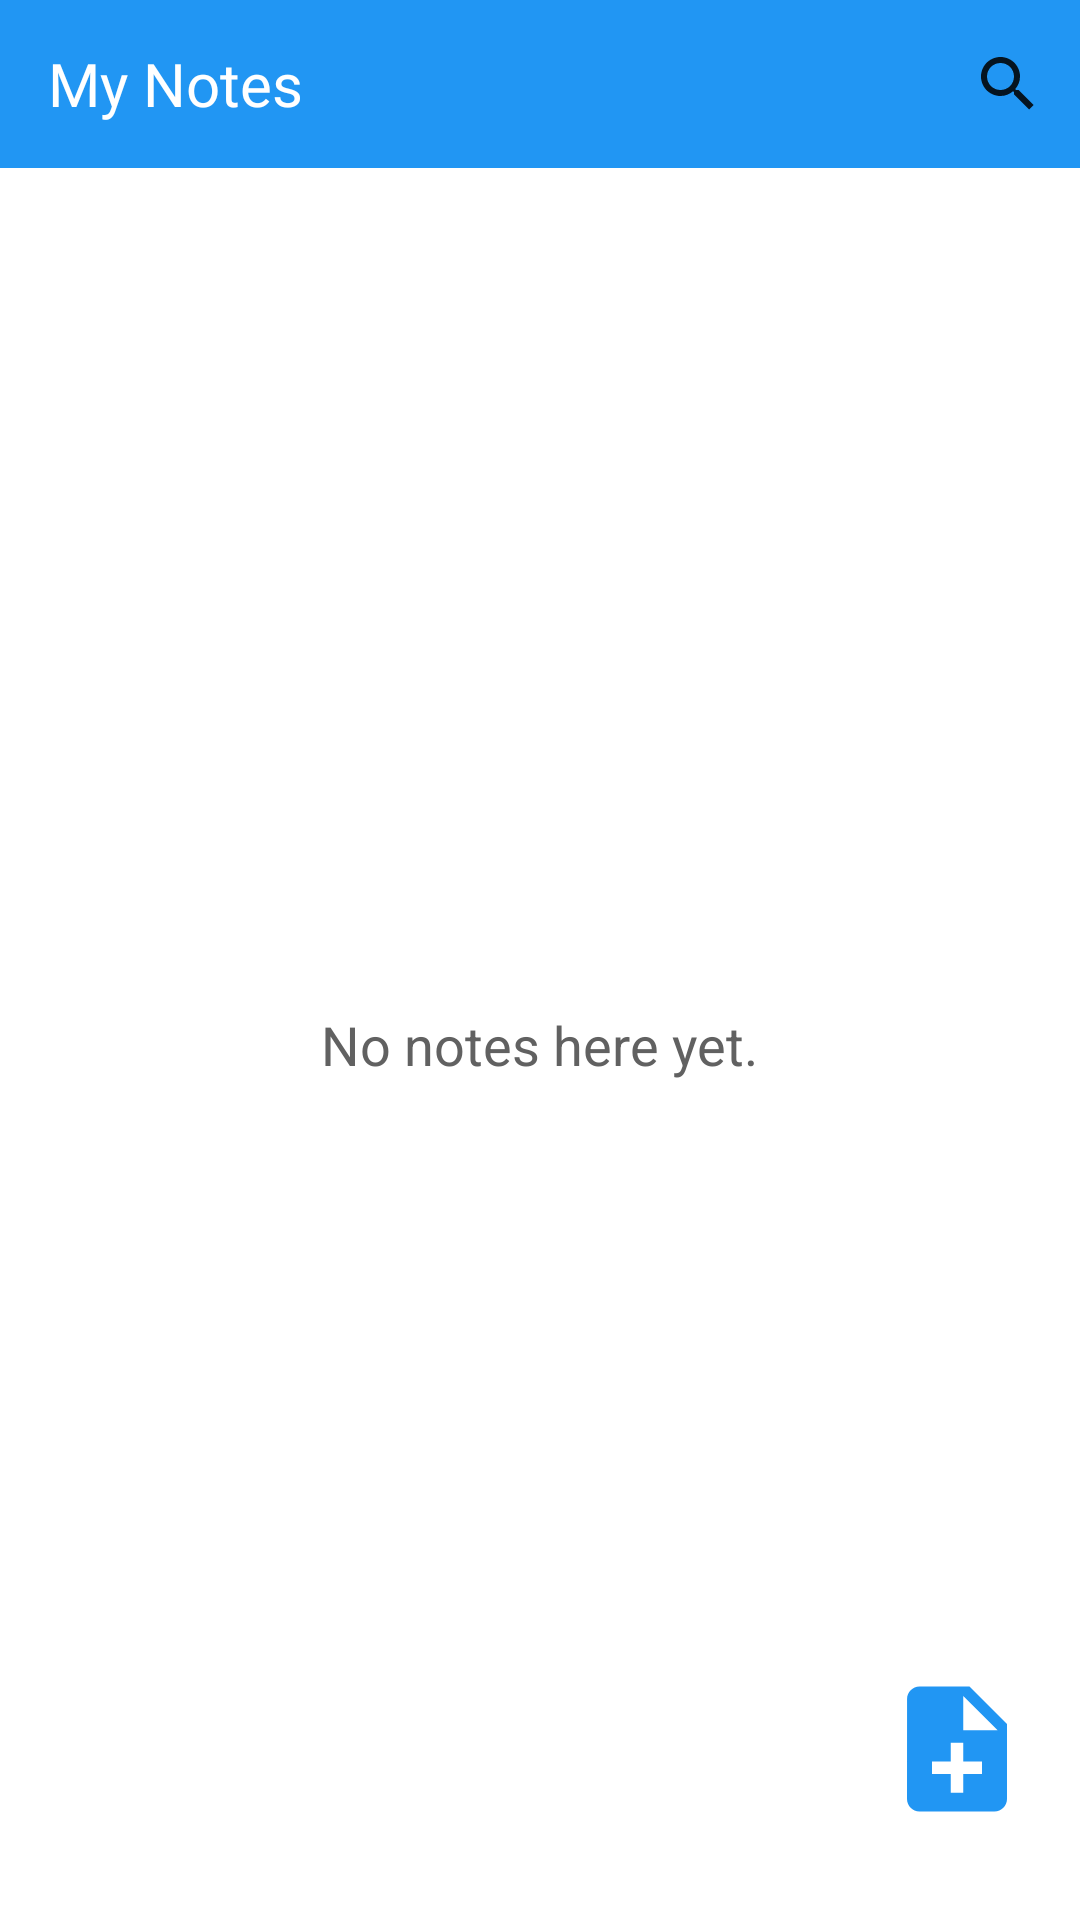

Icon bounding boxes for this 1080×1920 phone screenshot, format (x1, y1, x2, y2):
note add: (907, 1686, 1007, 1812)
